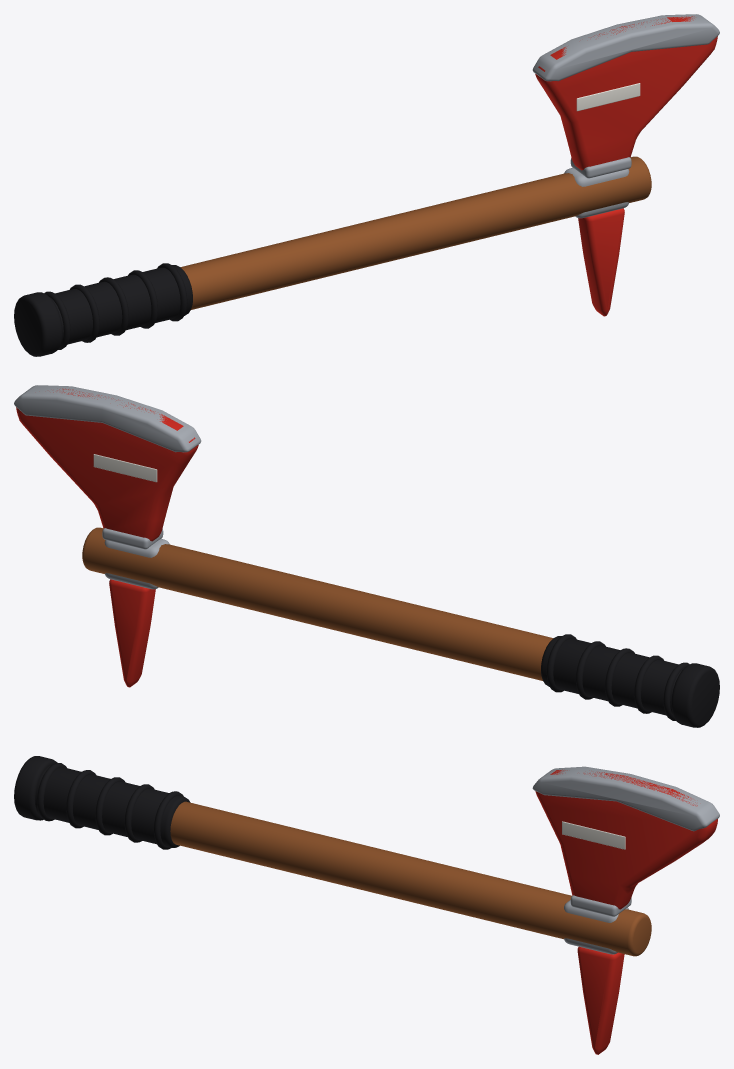
Rendered from axe.glb.
3 renders of one model, top to bottom at view 1: azimuth 30°, elevation 25°; view 2: azimuth 150°, elevation 25°; view 3: azimuth 330°, elevation 25°, orthographic.
Visible parts, largest first — view 1: axe; view 2: axe; view 3: axe.
Boxes of the visible parts, x1=… form: axe: x1=14, y1=14, x2=719, y2=356; axe: x1=14, y1=385, x2=719, y2=727; axe: x1=14, y1=756, x2=719, y2=1054.
Bounding box in the file's own units: 0.7516 × 0.2925 × 0.06.
